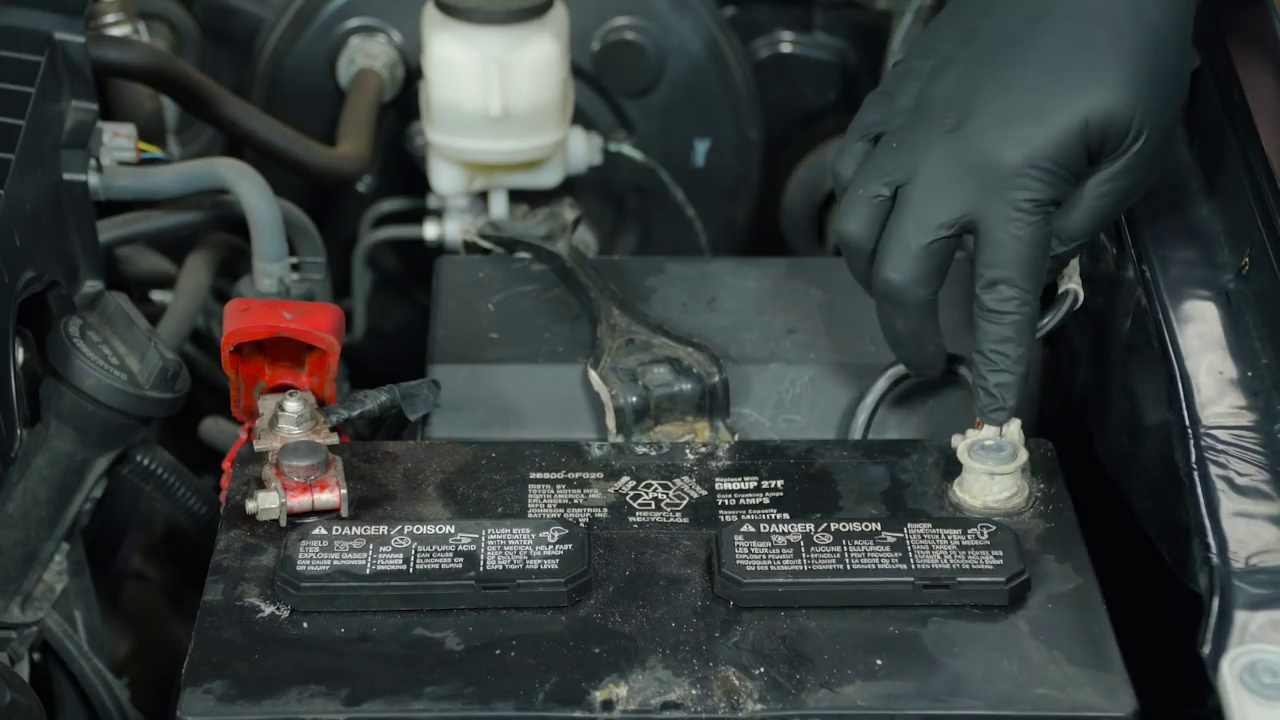battery: (222, 376, 1136, 720)
neg_touched: (898, 264, 1066, 515)
pos_connected: (203, 280, 379, 563)
